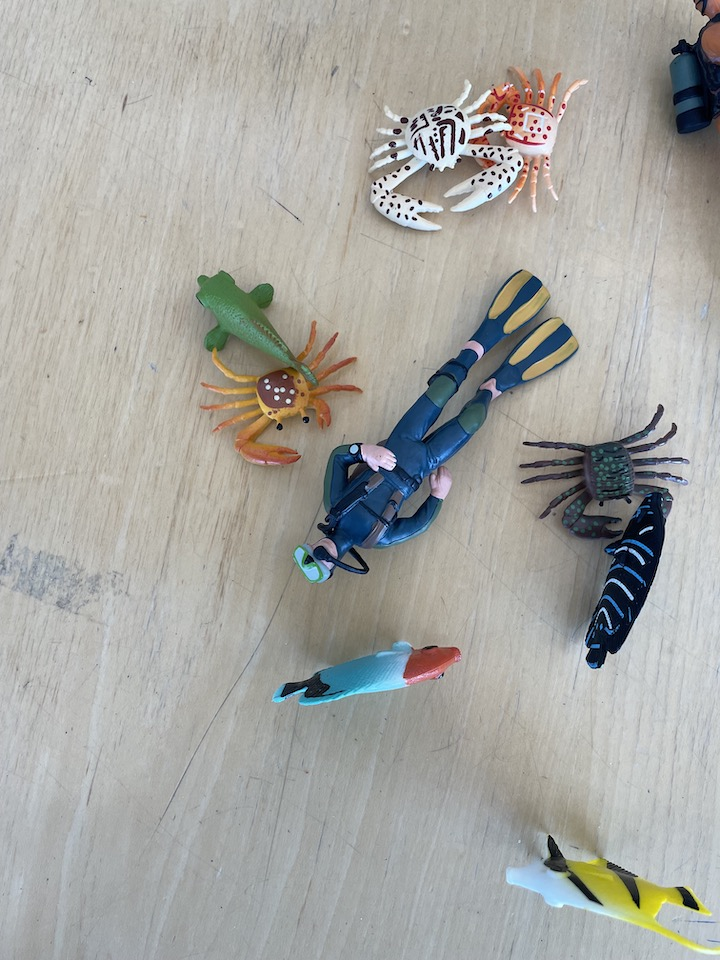crab: (197, 307, 365, 470), (514, 404, 690, 544), (366, 79, 524, 234), (464, 68, 593, 214)
danger: (503, 831, 720, 955)
diver: (293, 264, 581, 587), (668, 1, 720, 142)
fish: (581, 488, 673, 675), (192, 268, 323, 389), (268, 640, 465, 712)
